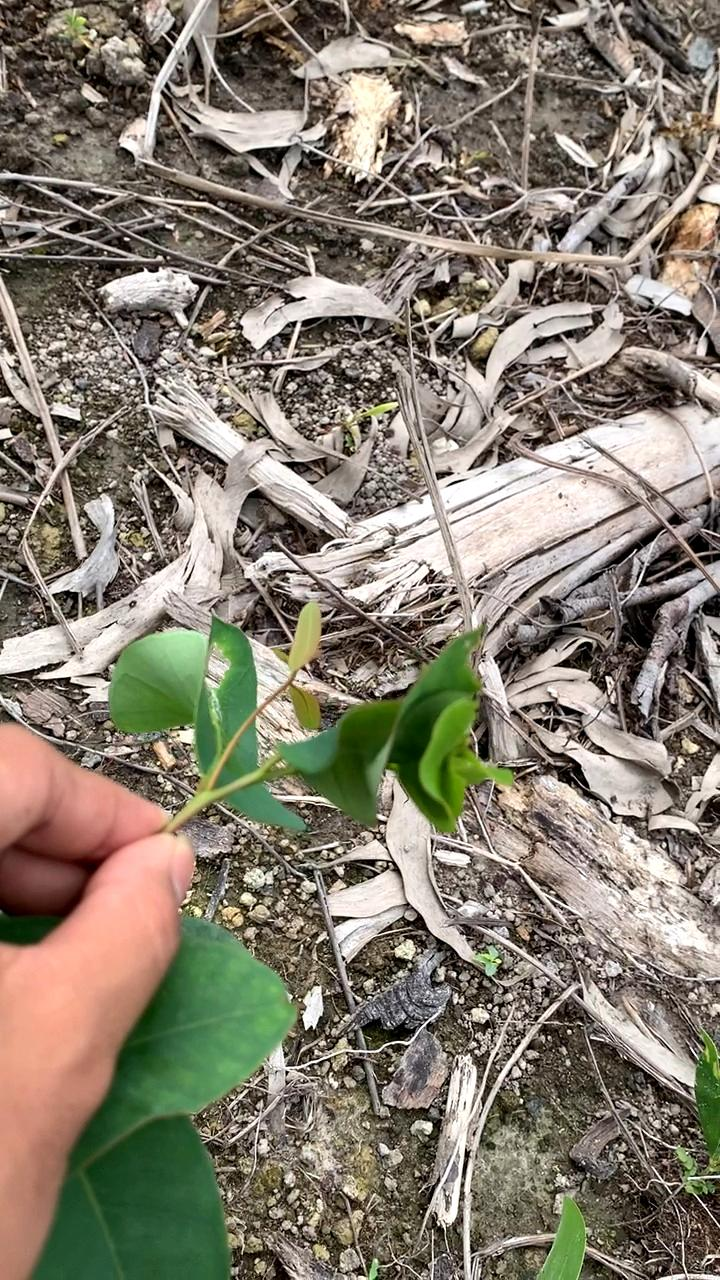Leaf Roller - Leaf: (296, 648, 513, 845)
